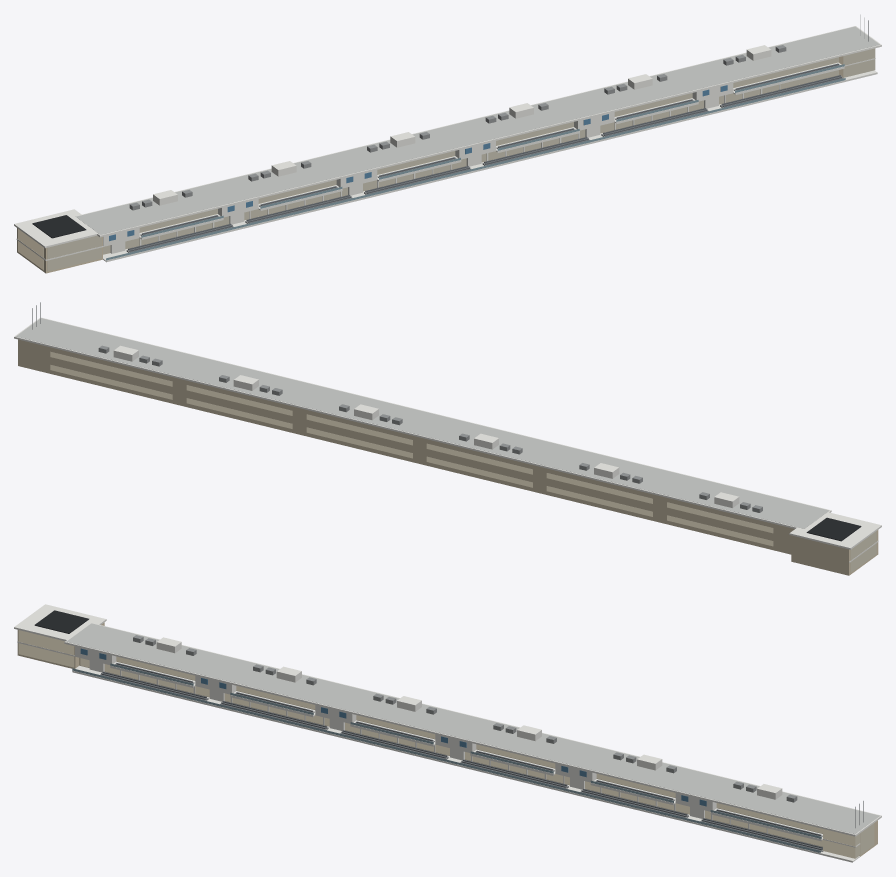
The model's file is cota_pit_upper.glb.
3 renders of one model, top to bottom at view 1: azimuth 30°, elevation 25°; view 2: azimuth 150°, elevation 25°; view 3: azimuth 330°, elevation 25°, orthographic.
Visible parts, largest first — view 1: austin-pit-building; view 2: austin-pit-building; view 3: austin-pit-building.
Boxes of the visible parts, x1=… form: austin-pit-building: x1=14, y1=14, x2=881, y2=273; austin-pit-building: x1=14, y1=302, x2=881, y2=575; austin-pit-building: x1=14, y1=604, x2=881, y2=862.
Size of the model in its own units: 366 by 21.05 by 25.5.
